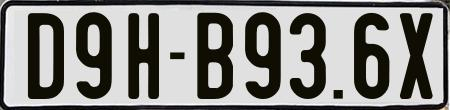3: (290, 11, 331, 102)
6: (354, 11, 389, 100)
9: (75, 10, 117, 98), (245, 12, 283, 102)
B: (197, 13, 238, 102)
D: (27, 10, 65, 100)
H: (127, 10, 158, 102)
X: (397, 11, 432, 98)
